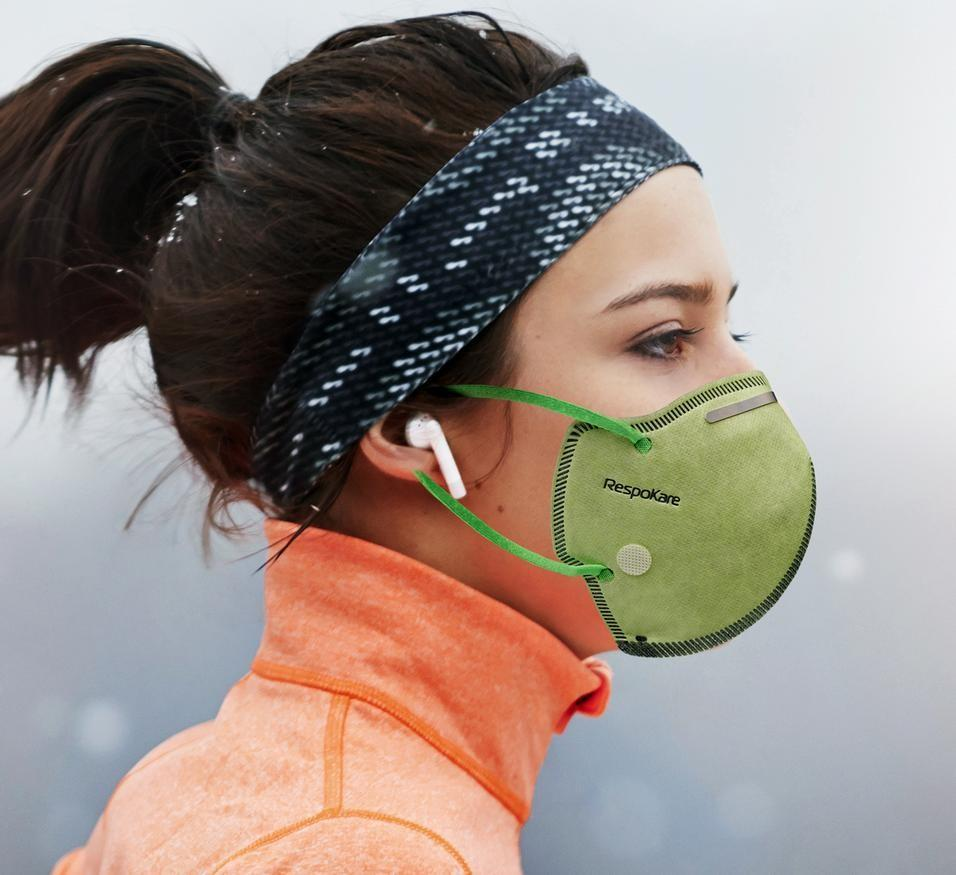Wearing Mask: (87, 2, 902, 724)
